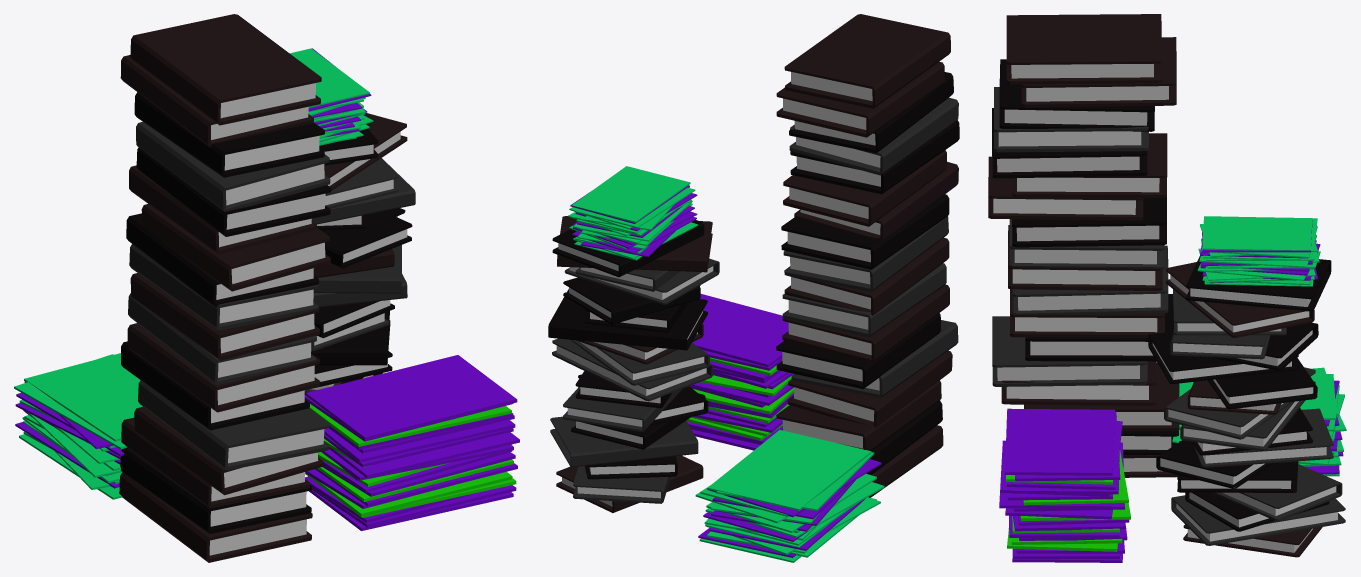
The model's file is kamara.fbx.
3 views of the same model, side by side, from view 1: azimuth 30°, elevation 25°; view 2: azimuth 150°, elevation 25°; view 3: azimuth 270°, elevation 25° (orthographic). The views are drawn at different scales.
Parts seen in each view (by area): view 1: Plane.002 (×7); view 2: Plane.002 (×7); view 3: Plane.002 (×7).
Part boxes in pixels (x1,y1,x2,y2): Plane.002 (×7): (14,14,519,562); Plane.002 (×7): (548,14,959,562); Plane.002 (×7): (988,14,1346,562).
Bounding box in the file's own units: 191 × 252 × 194.
